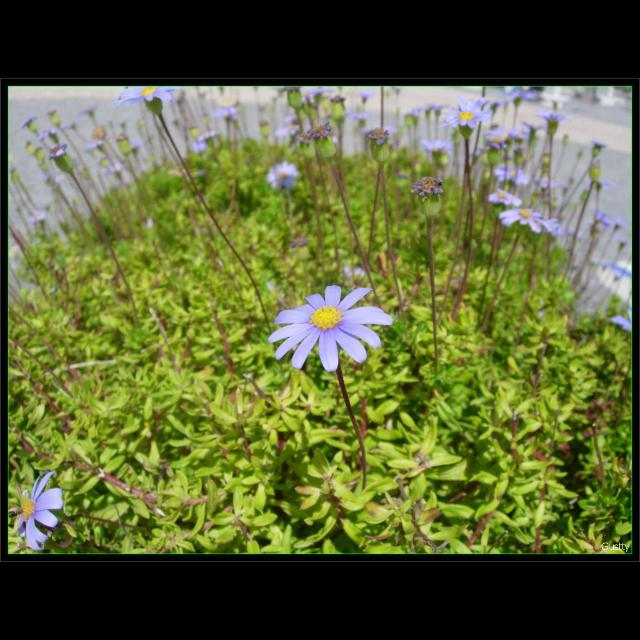Flower: (366, 87, 632, 280), (6, 84, 347, 220), (268, 281, 398, 377), (10, 471, 64, 554), (114, 85, 172, 113), (269, 161, 299, 189), (610, 314, 634, 334), (292, 237, 310, 247), (356, 110, 366, 122), (360, 86, 370, 98)
